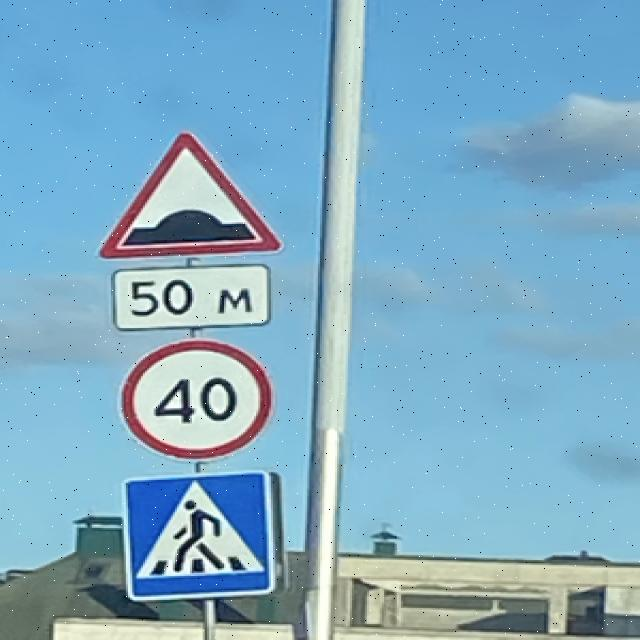Speedlimit: (115, 336, 273, 462)
